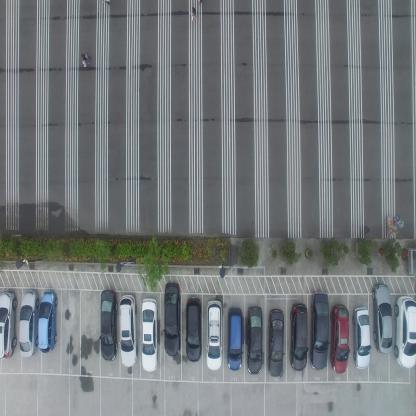car: (370, 282, 393, 355), (394, 294, 416, 370), (18, 288, 40, 357), (118, 295, 138, 369), (310, 290, 328, 372), (330, 302, 349, 375), (37, 288, 58, 354), (140, 296, 158, 372), (163, 282, 181, 356), (205, 298, 223, 371), (289, 303, 308, 372), (100, 288, 118, 360), (351, 306, 371, 370), (0, 290, 18, 359), (267, 306, 284, 376), (185, 295, 202, 363), (247, 304, 263, 374), (226, 307, 243, 370)
